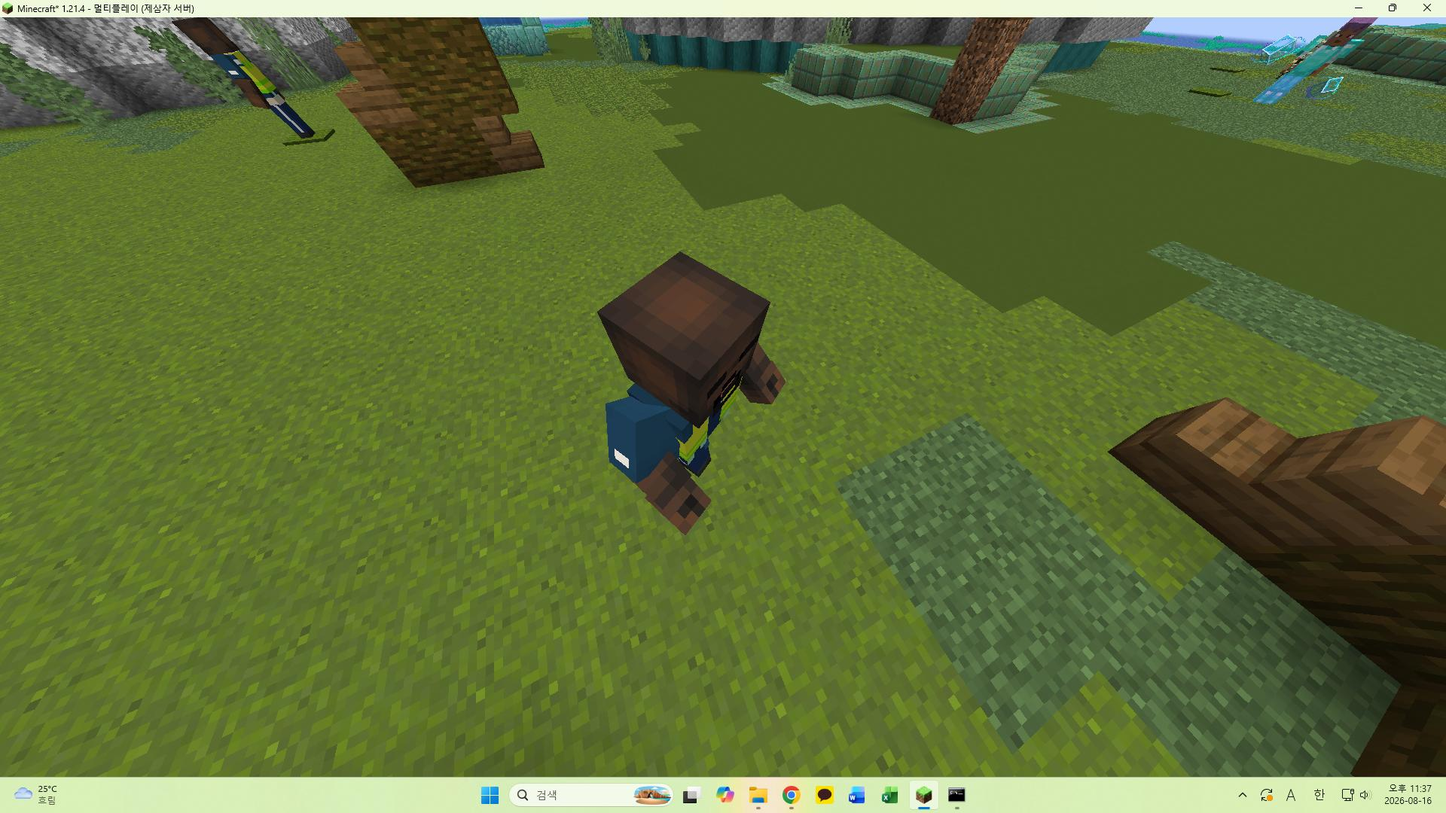Guardian: (598, 252, 785, 534)
